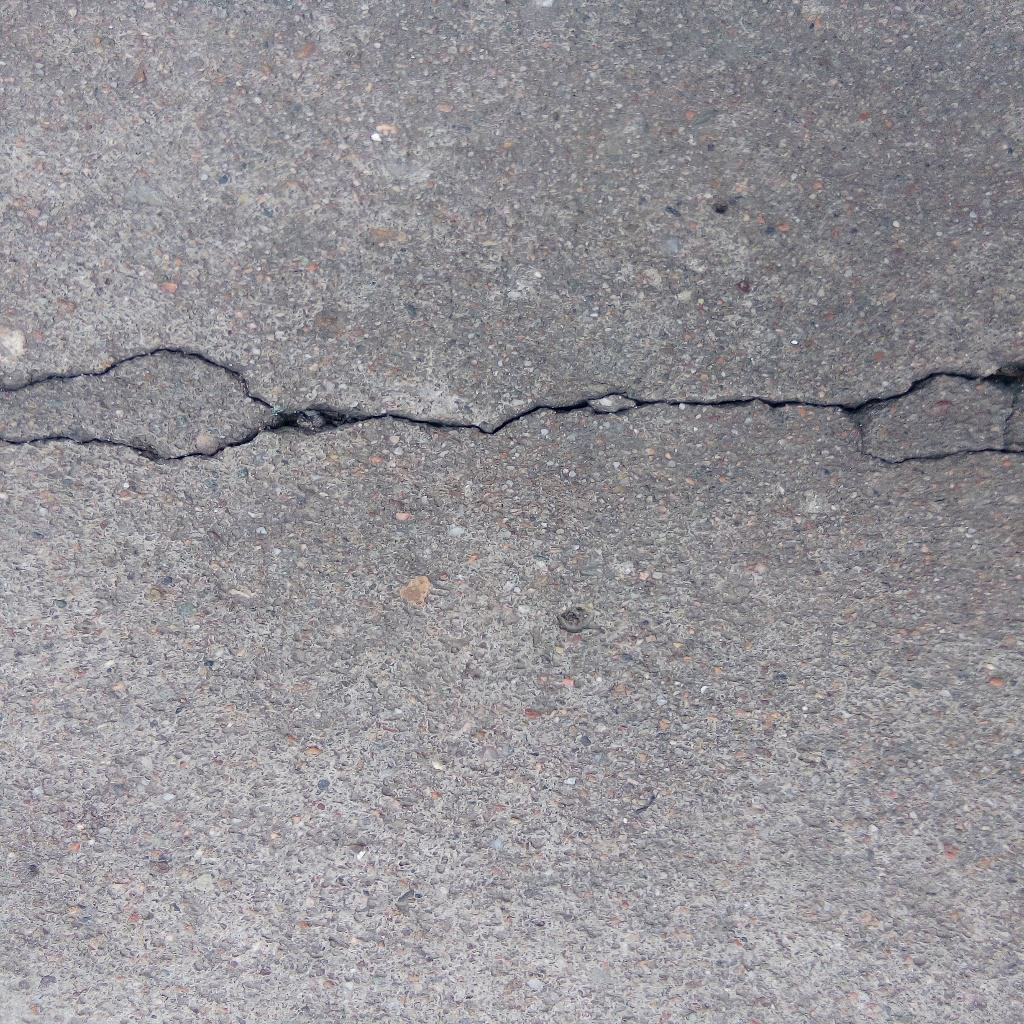Crack: (1, 345, 1024, 466)
